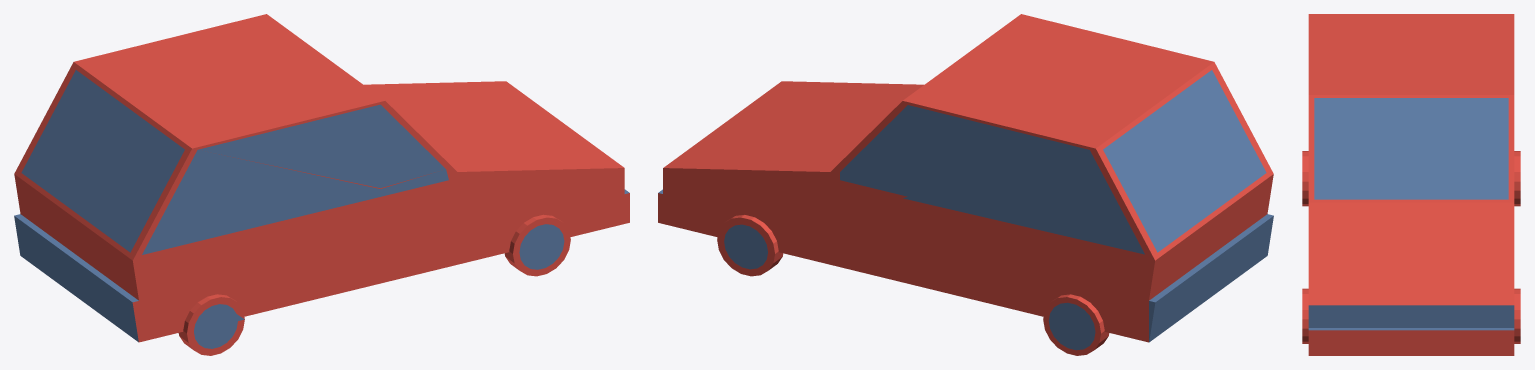
Rendered from car2.glb.
3 renders of one model, left to right at view 1: azimuth 30°, elevation 25°; view 2: azimuth 150°, elevation 25°; view 3: azimuth 270°, elevation 25°, orthographic. The views are drawn at different scales.
Parts seen in each view (by area): view 1: Car; view 2: Car; view 3: Car.
Boxes of the visible parts, <box> form: Car: <box>14,14,629,355</box>; Car: <box>658,14,1273,355</box>; Car: <box>1302,14,1520,355</box>.
Size of the model in its own units: 0.9999 by 0.4015 by 0.4386.
